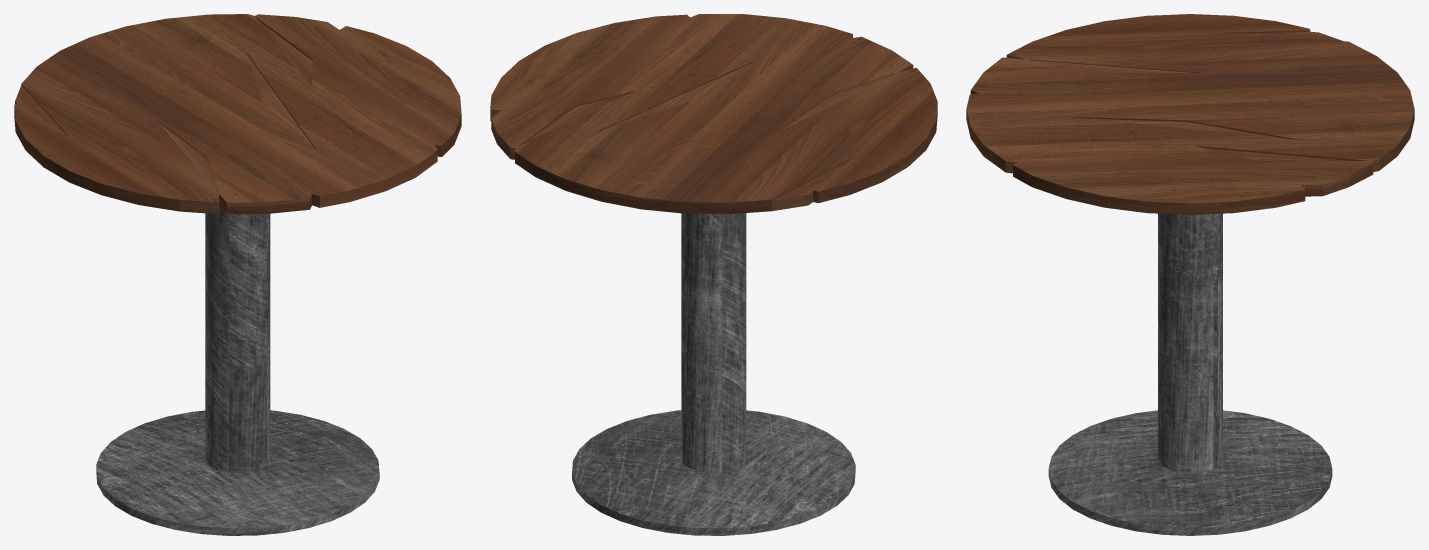
The model's file is ümarlaud.fbx.
The picture shows the model from 3 angles, left to right: view 1: azimuth 30°, elevation 25°; view 2: azimuth 150°, elevation 25°; view 3: azimuth 270°, elevation 25°; orthographic projection.
Parts seen in each view (by area): view 1: ümarlaud; view 2: ümarlaud; view 3: ümarlaud.
Boxes of the visible parts, x1,y1,x2,y2 form: ümarlaud: (14, 14, 461, 535); ümarlaud: (490, 14, 937, 535); ümarlaud: (966, 14, 1414, 535).
Size of the model in its own units: 850 by 770 by 850.
